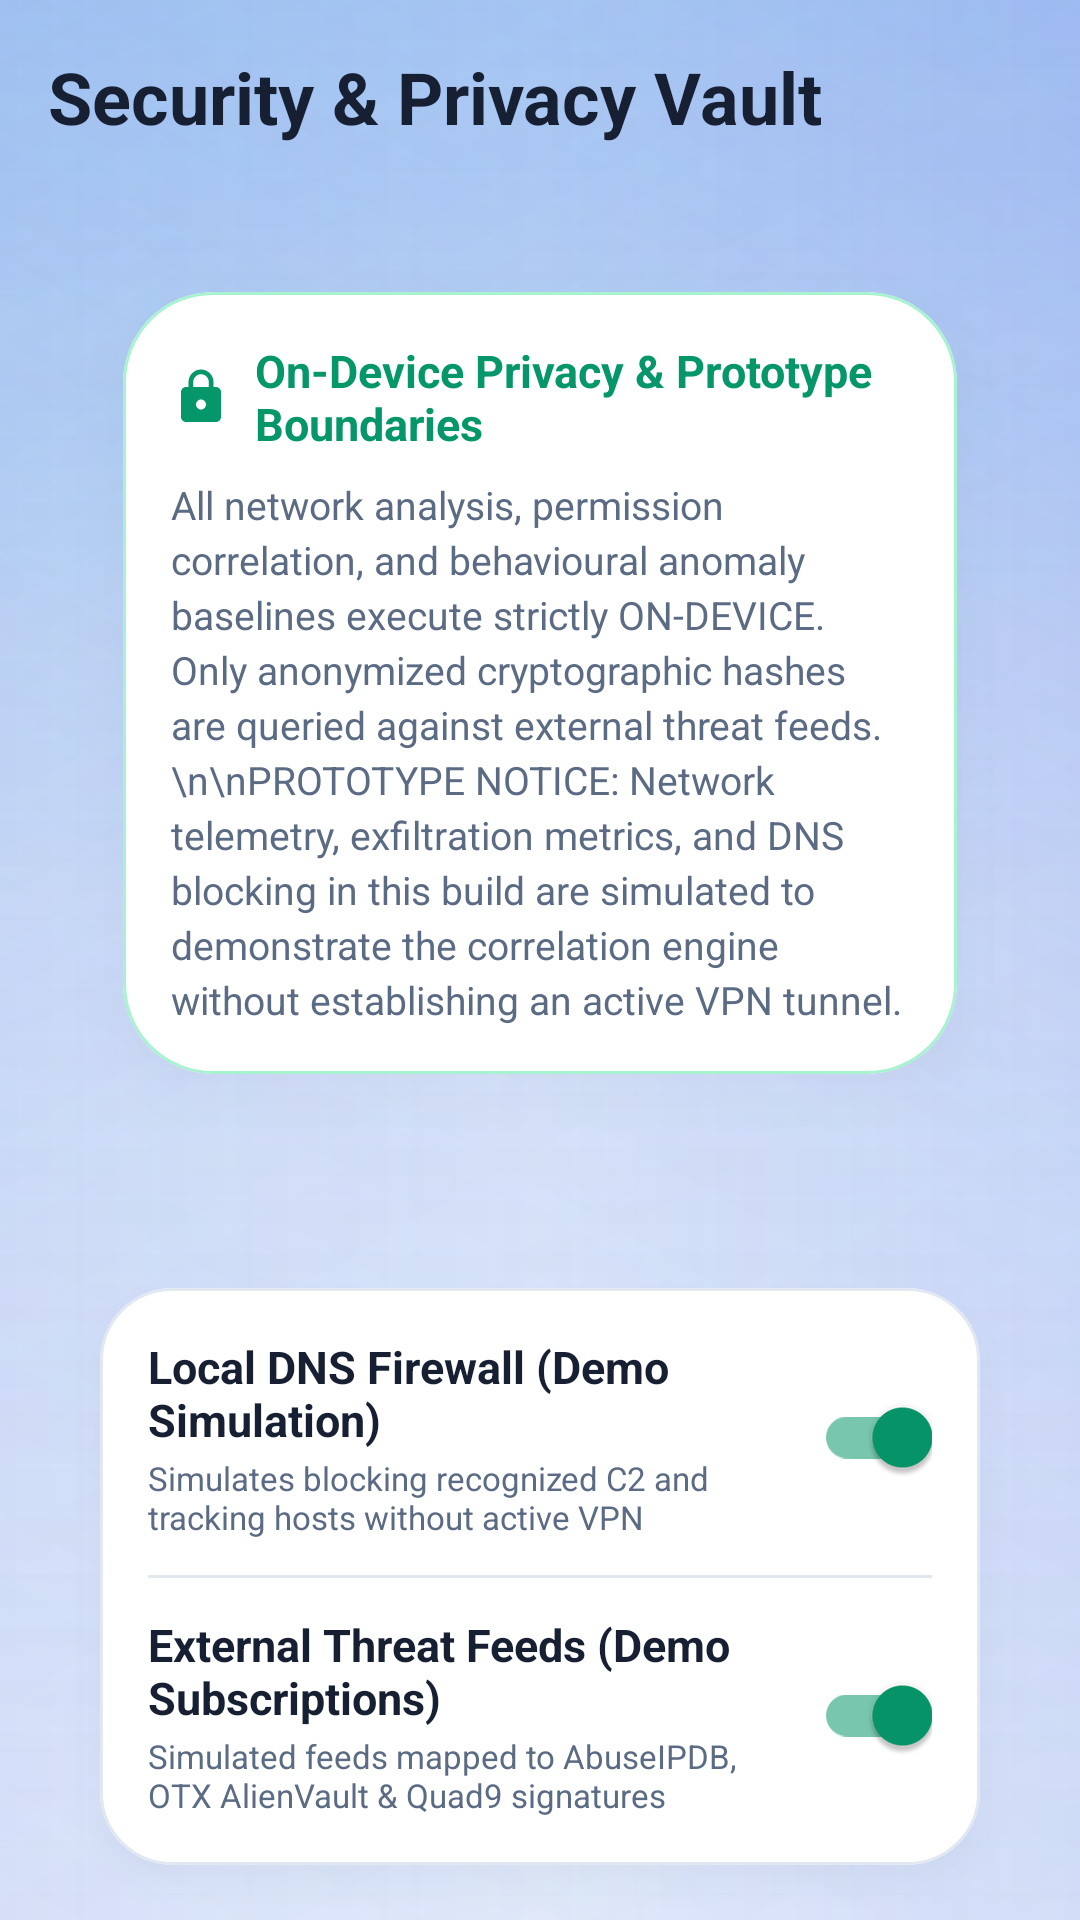

Named icons in this screenshot (1080x1920) and their bounding boxes, (x1, y1, x2, y2):
lock: (181, 369, 221, 422)
